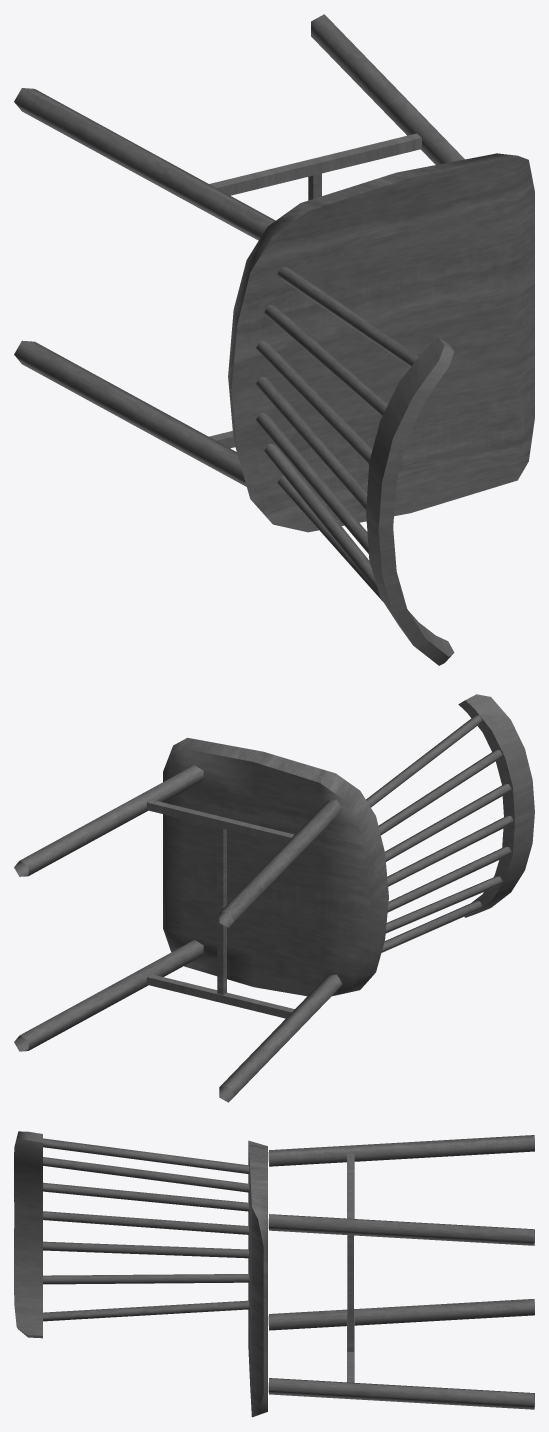
The picture shows the model from 3 angles, top to bottom: view 1: azimuth 30°, elevation 25°; view 2: azimuth 150°, elevation 25°; view 3: azimuth 270°, elevation 25°; orthographic projection. The views are drawn at different scales.
Visible parts, largest first — view 1: WoodenChair; view 2: WoodenChair; view 3: WoodenChair.
Boxes of the visible parts, x1,y1,x2,y2 form: WoodenChair: (14,14,534,665); WoodenChair: (14,694,534,1102); WoodenChair: (14,1131,534,1417).
Bounding box in the file's own units: 0.4021 × 0.3643 × 0.7912.
1 material, 1 textured.
